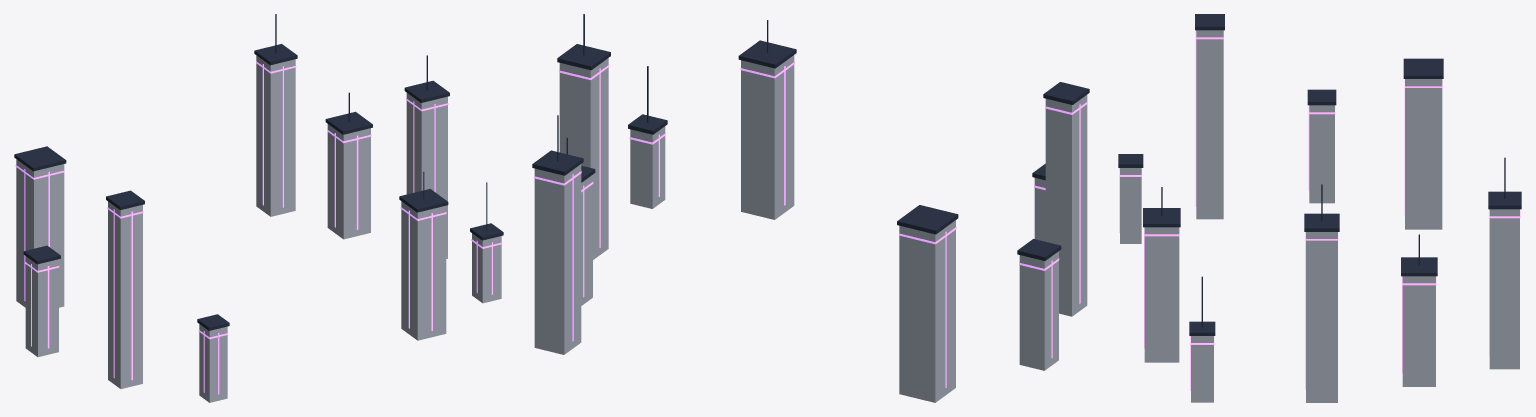
3 renders of one model, left to right at view 1: azimuth 30°, elevation 25°; view 2: azimuth 150°, elevation 25°; view 3: azimuth 270°, elevation 25°, orthographic. The views are drawn at different scales.
Visible parts, largest first — view 1: nexo_spires_cero.lod0; view 2: nexo_spires_cero.lod0; view 3: nexo_spires_cero.lod0.
Part boxes in pixels (x1,y1,x2,y2): nexo_spires_cero.lod0: (14,14,503,402); nexo_spires_cero.lod0: (532,14,1089,402); nexo_spires_cero.lod0: (1118,14,1521,402).
Size of the model in its own units: 26.37 by 12.3 by 21.23.
